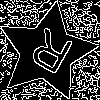R: (22, 27, 76, 84)
